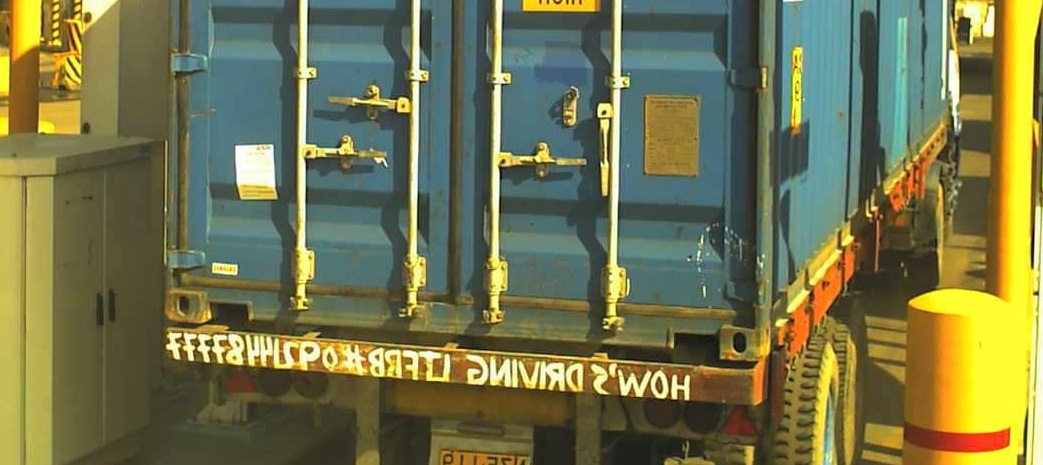container_door: (161, 1, 772, 366)
